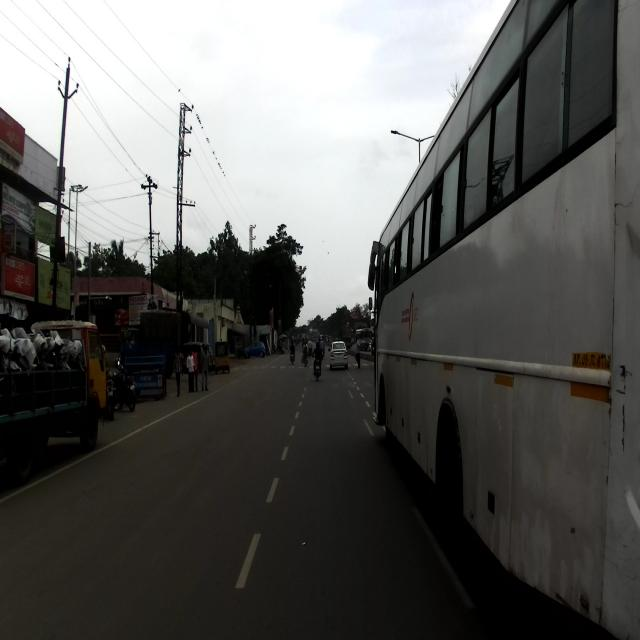bus: (368, 0, 638, 639)
car: (327, 340, 348, 370)
